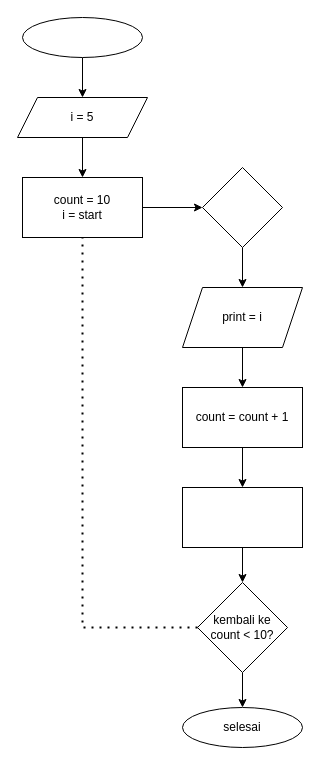
This 320x765 diagram has some shape labels left out. The shapes that lost their labels are listed below. From the top down, each one's centre as x and y in pixels, then its label:
At (x=82, y=37): "Mulai".
At (x=242, y=207): "i %==0?".
At (x=242, y=517): "i = i + 1".
